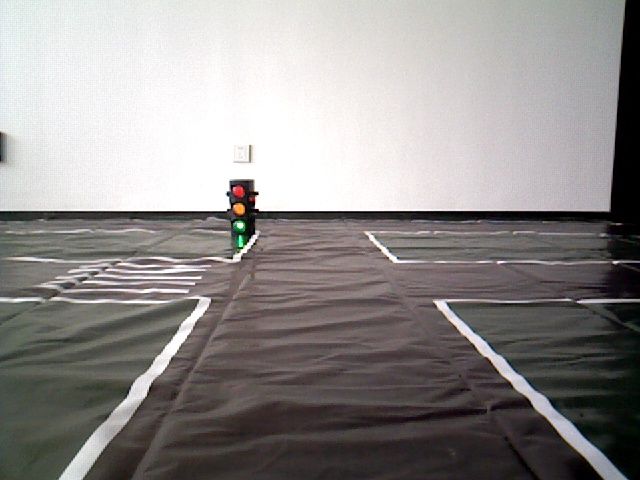green: (228, 181, 254, 237)
